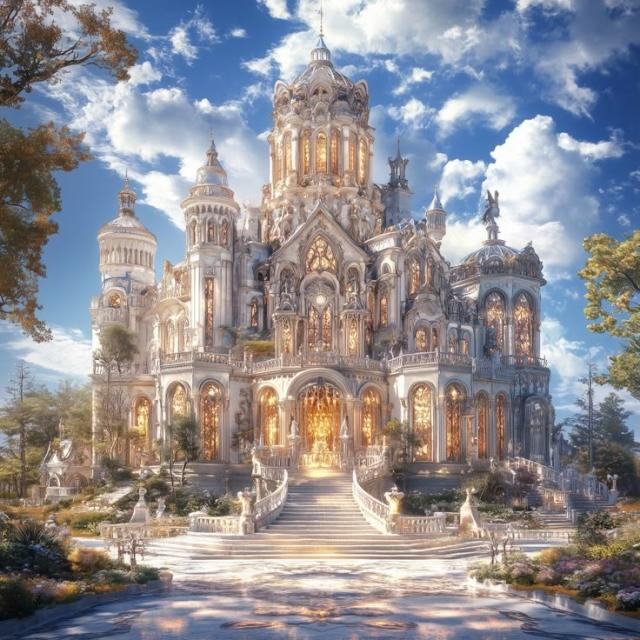castle: (62, 5, 591, 523)
